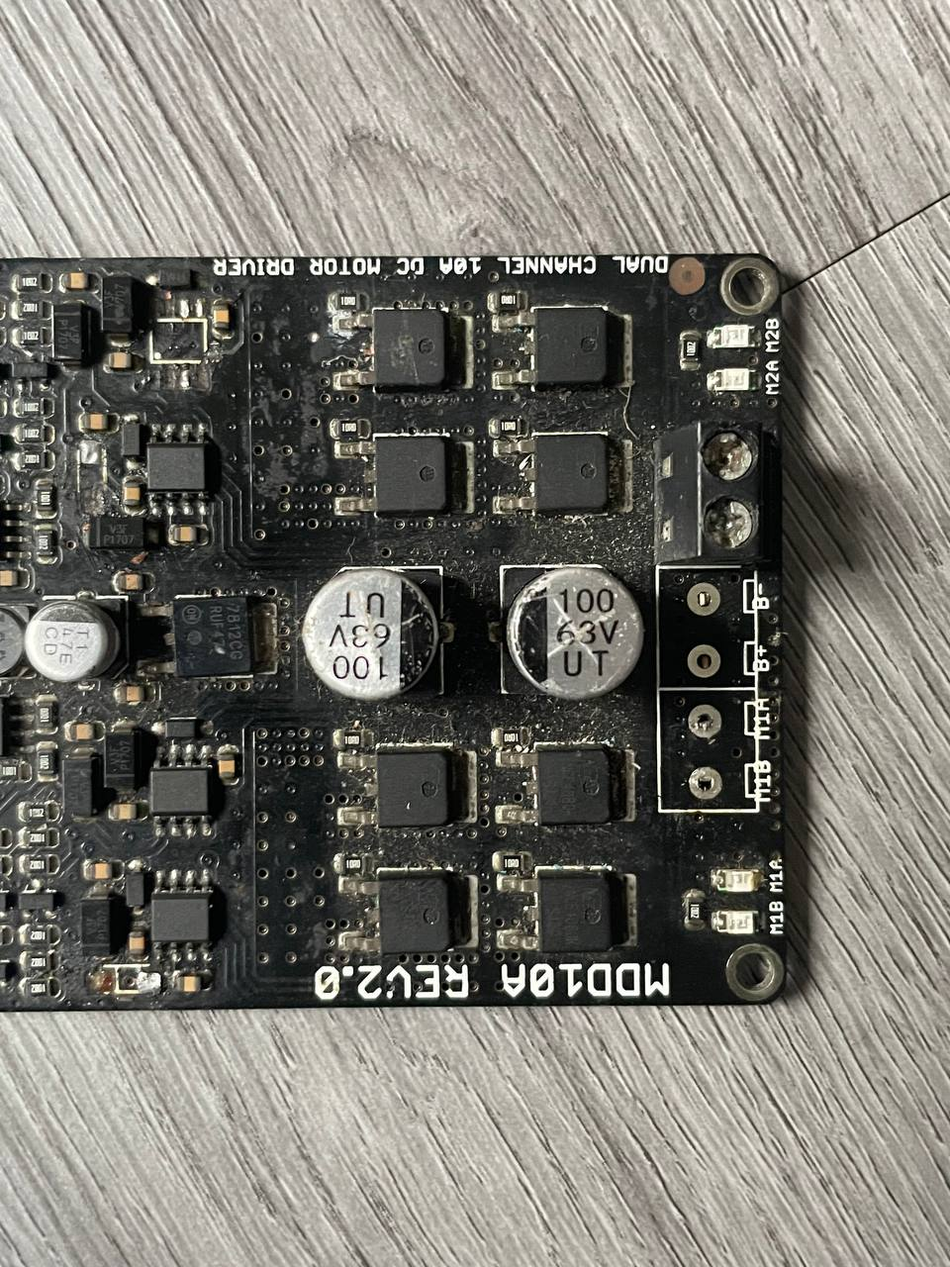missing_comp: (145, 312, 214, 366), (91, 960, 165, 999), (74, 438, 111, 510)
missing_tb: (656, 563, 770, 690), (655, 690, 770, 813), (714, 689, 716, 726)
